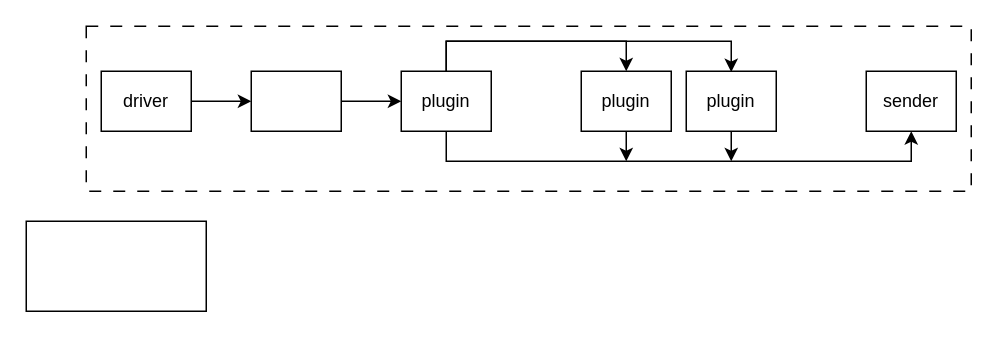
The diagram is 998 pixels wide and 338 high, and some of its shapes have lost their labels. Each missing label, with the centre of its shape:
"adapter" goes at point 295,100.
"web interface（http/websocket）" goes at point 115,265.
